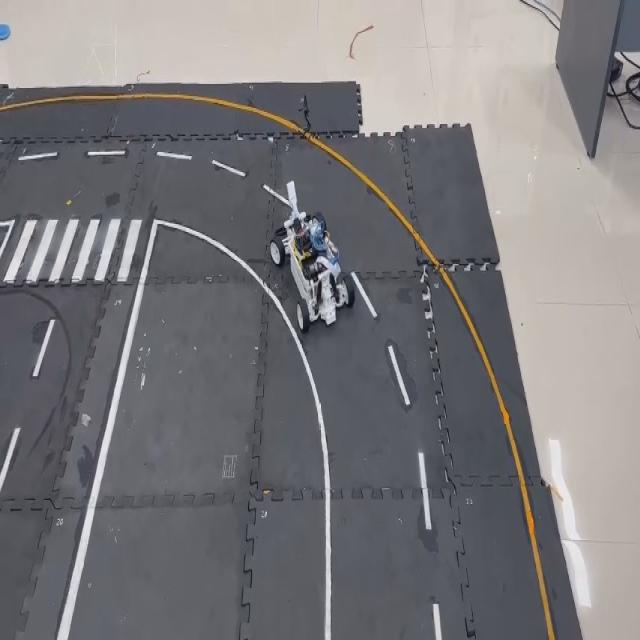SiCo-CAR: (264, 179, 355, 333)
